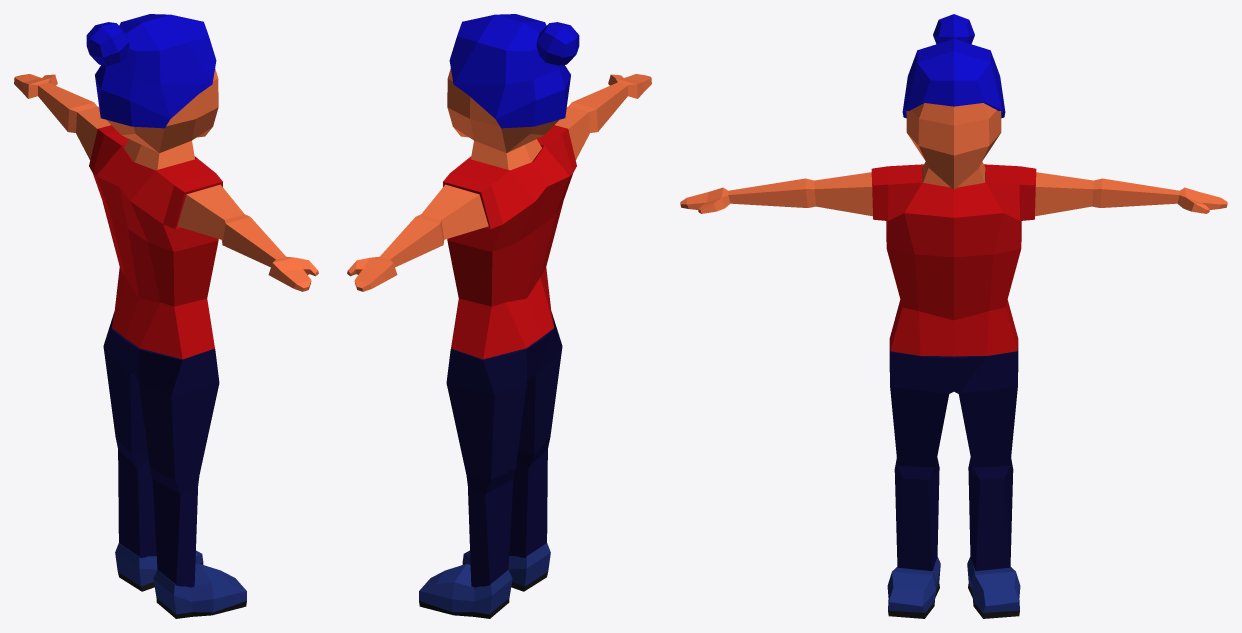
Rendered from char.obj.
3 renders of one model, left to right at view 1: azimuth 30°, elevation 25°; view 2: azimuth 150°, elevation 25°; view 3: azimuth 270°, elevation 25°, orthographic. The views are drawn at different scales.
Visible parts, largest first — view 1: char_pants_Cube.005; view 2: char_pants_Cube.005; view 3: char_pants_Cube.005.
Boxes of the visible parts, x1,y1,x2,y2 form: char_pants_Cube.005: (14, 14, 318, 618); char_pants_Cube.005: (347, 14, 651, 618); char_pants_Cube.005: (680, 14, 1227, 618).
Bounding box in the file's own units: 0.1112 × 0.4799 × 0.4305.
